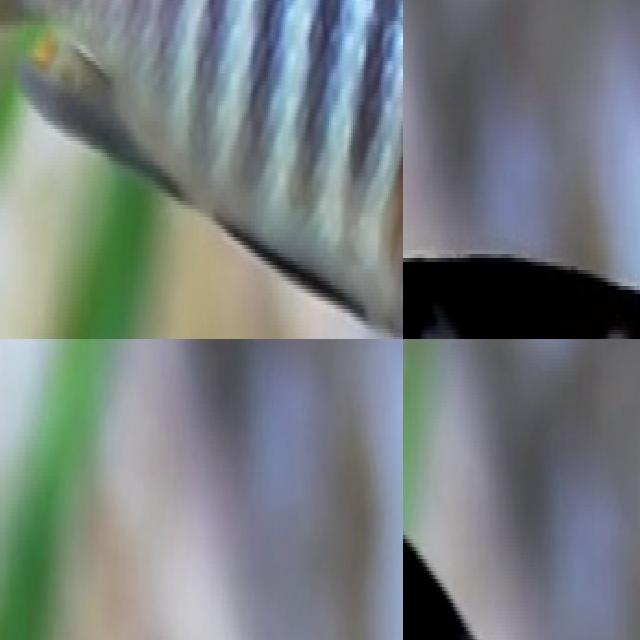fish: (0, 0, 403, 339), (403, 134, 640, 339)
